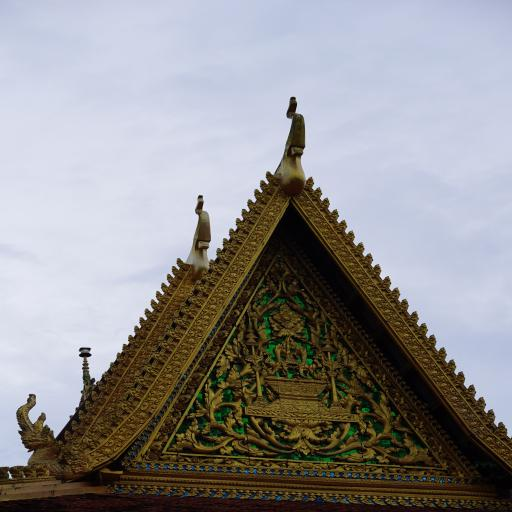hoa: (272, 305, 302, 329)
la: (118, 421, 139, 439), (332, 248, 355, 264), (106, 433, 126, 450), (310, 214, 330, 231), (147, 384, 168, 400), (344, 261, 366, 276), (140, 396, 160, 412), (434, 379, 455, 394), (406, 344, 430, 357), (82, 451, 104, 465), (228, 258, 247, 274), (294, 197, 314, 212), (447, 393, 467, 408), (164, 362, 185, 376), (417, 356, 438, 370), (461, 382, 478, 399), (155, 371, 174, 386), (170, 347, 189, 362), (400, 332, 420, 346), (376, 306, 399, 318), (324, 238, 345, 251), (352, 273, 373, 286), (129, 410, 147, 425), (195, 312, 213, 327), (234, 250, 253, 264), (246, 229, 265, 243), (240, 238, 256, 254), (207, 292, 225, 306), (427, 368, 445, 382), (483, 436, 502, 449), (216, 280, 232, 295), (222, 270, 238, 285), (372, 296, 392, 308), (364, 284, 382, 297), (467, 420, 486, 432), (260, 209, 275, 224), (266, 199, 281, 214), (255, 220, 271, 234), (496, 446, 512, 460), (318, 227, 336, 239), (389, 320, 407, 332), (458, 408, 475, 420), (204, 302, 218, 316), (272, 192, 288, 204), (302, 206, 318, 217), (186, 325, 200, 337)
lua: (270, 92, 320, 205), (174, 188, 219, 281), (158, 336, 179, 354), (219, 238, 240, 256), (206, 256, 225, 275), (96, 379, 114, 399), (94, 416, 112, 436), (76, 408, 95, 426), (80, 431, 98, 450), (213, 247, 231, 266), (66, 418, 86, 435), (147, 298, 167, 315), (471, 395, 488, 415), (118, 340, 135, 359), (152, 287, 169, 306), (246, 198, 263, 217), (252, 188, 271, 205), (384, 284, 401, 303), (65, 442, 85, 458), (186, 293, 206, 309), (192, 279, 212, 295), (62, 429, 80, 446), (82, 398, 99, 416), (99, 369, 117, 386), (138, 315, 155, 333), (367, 261, 385, 278), (173, 256, 192, 272), (172, 315, 192, 330), (482, 406, 497, 426), (241, 208, 258, 225), (131, 324, 147, 342), (180, 302, 198, 318), (356, 251, 374, 267), (374, 273, 392, 289), (431, 346, 449, 362), (448, 371, 466, 387), (299, 172, 314, 191), (165, 328, 185, 342), (106, 360, 123, 376), (126, 333, 142, 350), (202, 268, 218, 285), (134, 374, 152, 389), (332, 219, 348, 235), (413, 321, 429, 337), (440, 357, 456, 373), (226, 226, 240, 244), (496, 419, 508, 440), (142, 308, 158, 323), (165, 273, 180, 289), (258, 180, 274, 195), (326, 206, 341, 222), (342, 227, 357, 243), (114, 351, 128, 368), (349, 240, 366, 254), (91, 388, 104, 406), (166, 265, 184, 278), (108, 412, 126, 425), (144, 364, 162, 377), (151, 348, 166, 363), (158, 282, 174, 296), (318, 196, 332, 212), (394, 297, 408, 313), (404, 309, 418, 325), (118, 401, 135, 414), (129, 387, 146, 400), (424, 331, 436, 349), (310, 187, 322, 204), (263, 170, 278, 183), (236, 218, 246, 233)
ran: (6, 389, 72, 480)
